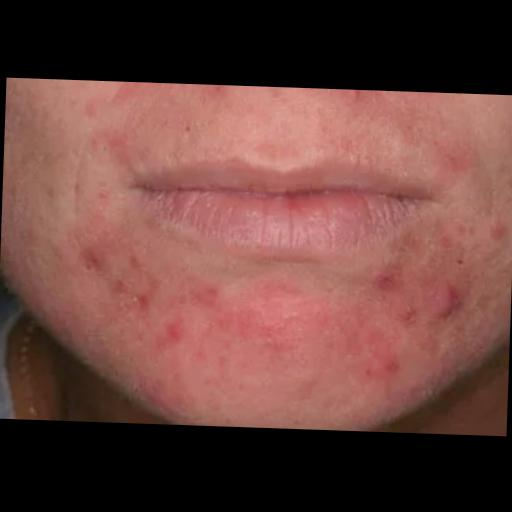Skin_Lesion: (243, 296, 316, 348), (443, 136, 482, 178), (434, 278, 467, 320), (364, 346, 400, 384), (78, 240, 110, 279), (336, 88, 386, 112), (364, 263, 400, 296), (139, 374, 180, 401), (189, 278, 222, 310), (122, 286, 152, 312), (398, 301, 422, 330), (330, 132, 356, 158), (197, 84, 232, 102), (114, 124, 134, 153), (164, 317, 184, 343), (488, 218, 508, 240), (82, 95, 98, 117), (88, 185, 108, 202), (126, 254, 144, 272), (172, 126, 186, 146)
